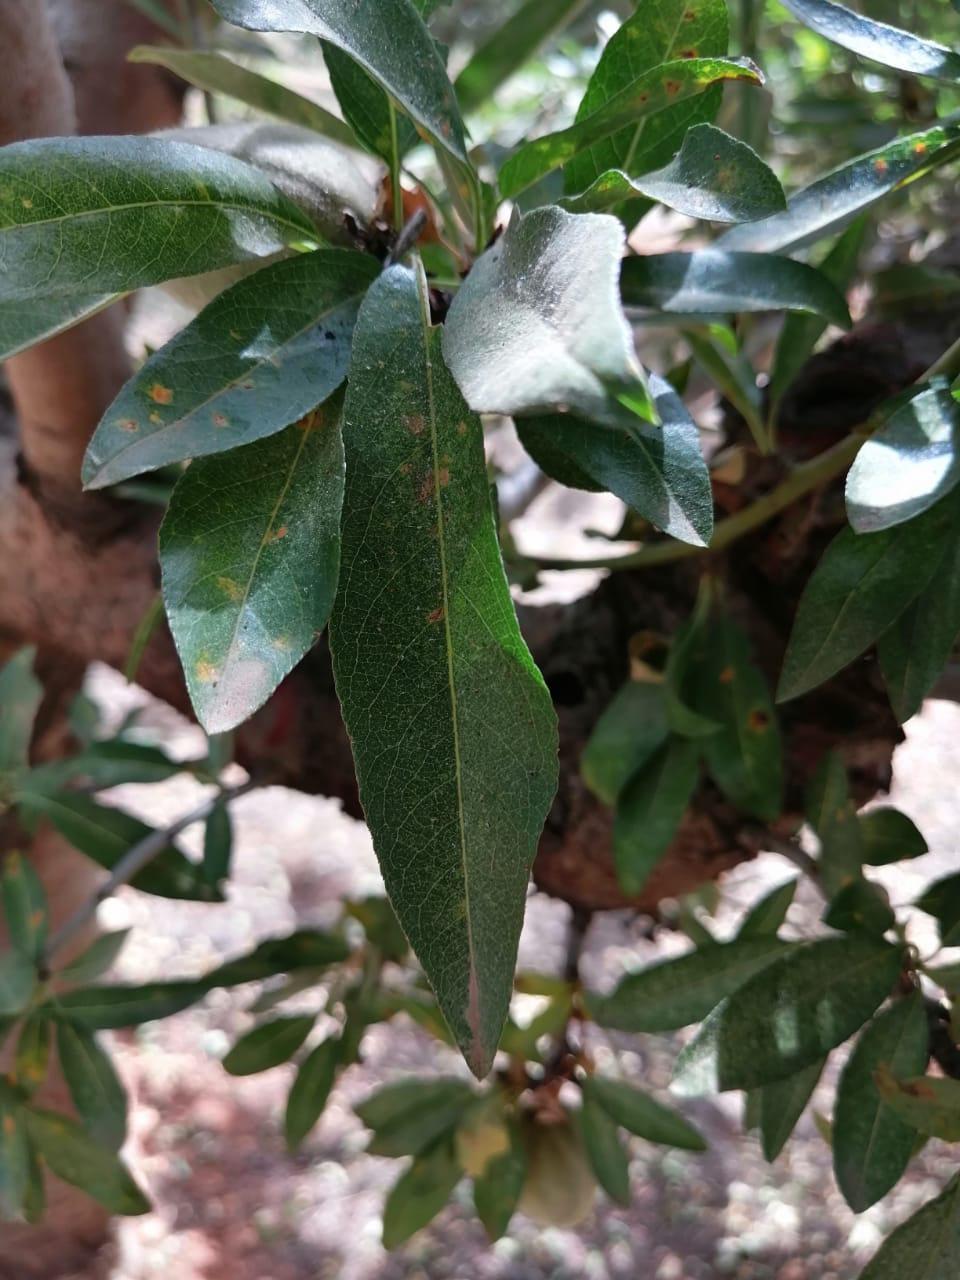acariens: (330, 252, 564, 1080)
